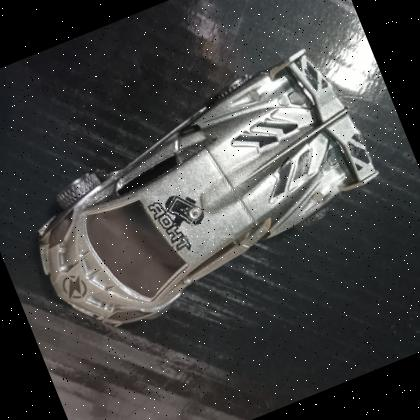Car: (0, 29, 409, 360)
